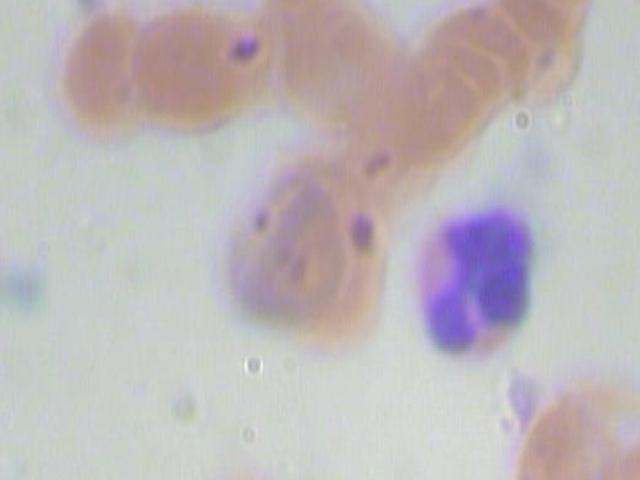RBC: (204, 159, 346, 334), (31, 11, 169, 148), (141, 0, 277, 136), (281, 0, 414, 136), (488, 395, 621, 480), (186, 455, 319, 480), (490, 0, 623, 2)
WBC: (412, 202, 543, 369)
